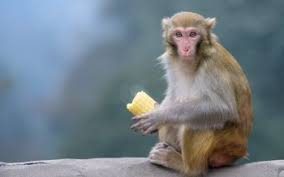monkey: (116, 12, 246, 172)
